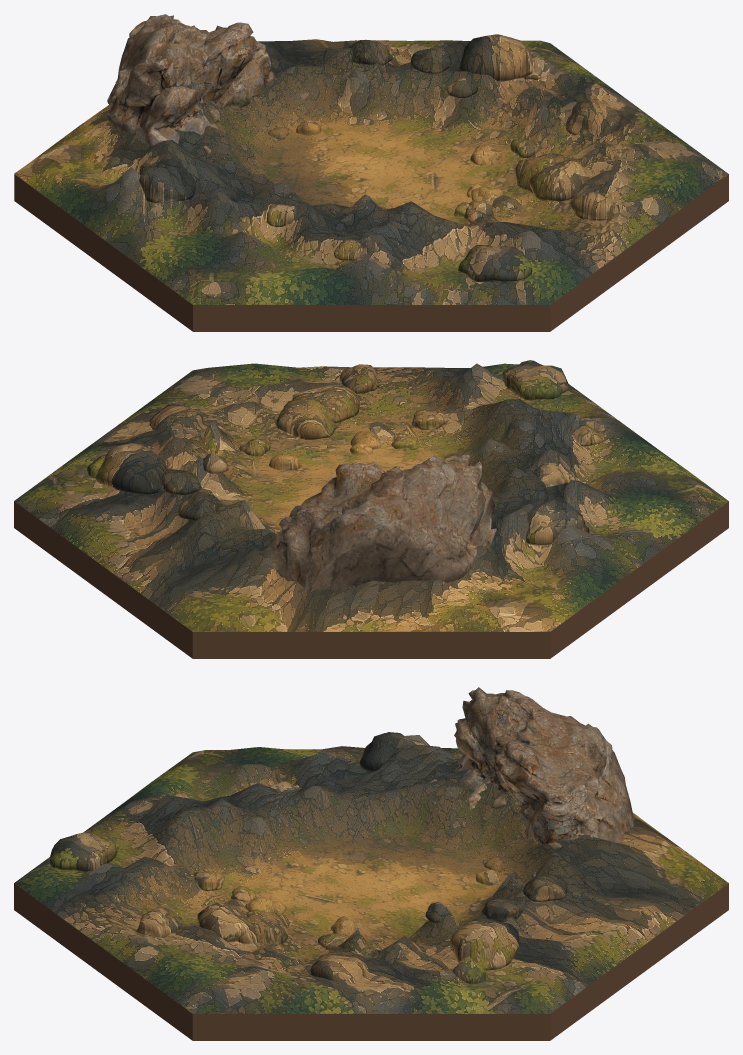
The model's file is hex_piedra_roca.glb.
3 renders of one model, top to bottom at view 1: azimuth 30°, elevation 25°; view 2: azimuth 150°, elevation 25°; view 3: azimuth 270°, elevation 25°, orthographic.
Visible parts, largest first — view 1: Quarry, Side, Boulder; view 2: Quarry, Boulder, Side; view 3: Quarry, Side, Boulder.
Part boxes in pixels (box(x1,y1,x2,y2)): Quarry: box(14, 34, 728, 304); Side: box(14, 174, 728, 331); Boulder: box(107, 14, 309, 153); Quarry: box(14, 360, 728, 631); Boulder: box(270, 454, 496, 591); Side: box(14, 501, 728, 658); Quarry: box(14, 732, 728, 1013); Side: box(14, 825, 728, 1040); Boulder: box(428, 687, 635, 877).
Bounding box in the file's own units: 1.73 × 0.4695 × 2.
Materials: 3 (2 with a texture image).
